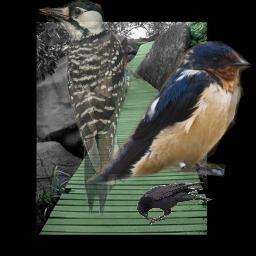Crow: (137, 182, 212, 226)
Swallow: (87, 40, 252, 186)
Woodpecker: (39, 0, 148, 220)
